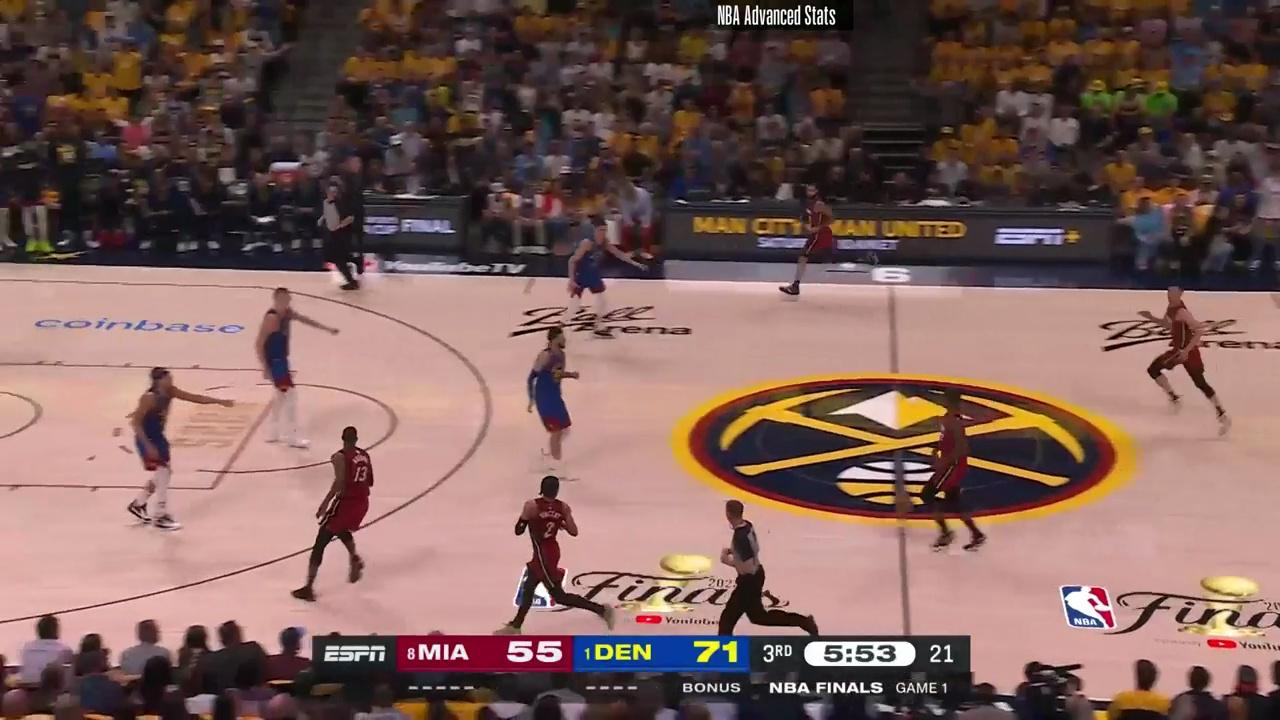Ball: (892, 492, 913, 517)
Person: (502, 474, 604, 638), (123, 361, 219, 531), (297, 423, 378, 603), (252, 279, 334, 435), (1146, 283, 1232, 428), (779, 188, 885, 304), (911, 389, 984, 556), (521, 323, 587, 474), (560, 215, 625, 334)
Referee: (711, 488, 816, 637), (314, 166, 379, 296)
